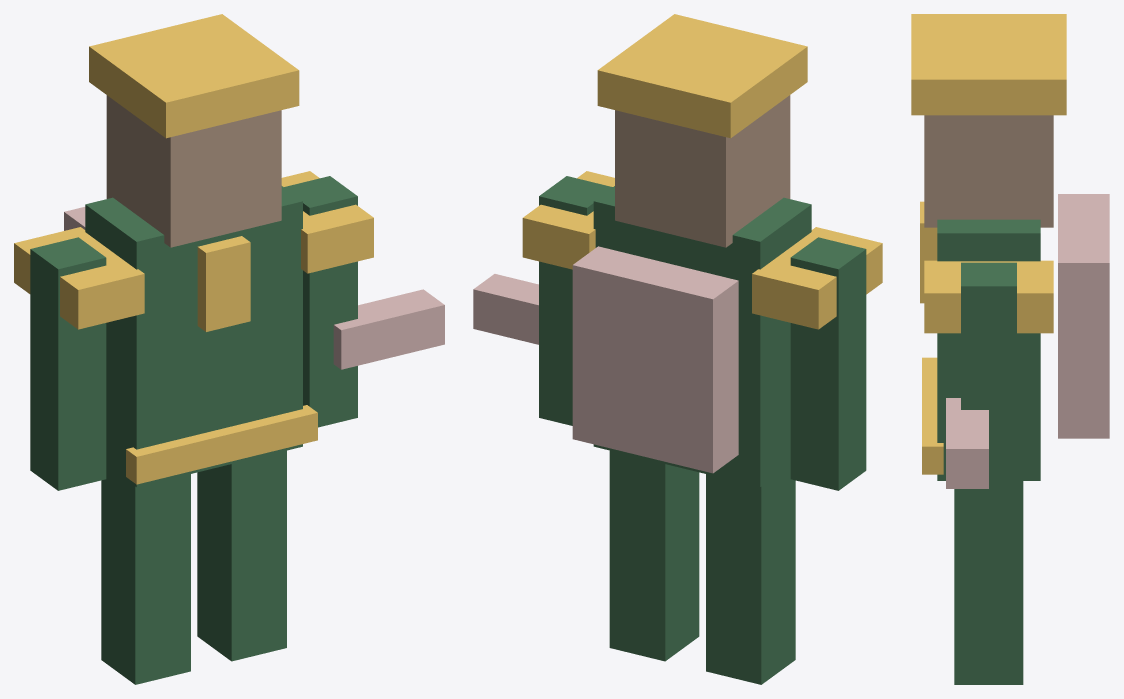
Rendered from 18_lyric_skyharrow_keeper_near_armory.glb.
The picture shows the model from 3 angles, left to right: view 1: azimuth 30°, elevation 25°; view 2: azimuth 150°, elevation 25°; view 3: azimuth 270°, elevation 25°; orthographic projection.
Parts seen in each view (by area): view 1: Lyric Skyharrow, Keeper near Armory; view 2: Lyric Skyharrow, Keeper near Armory; view 3: Lyric Skyharrow, Keeper near Armory.
Boxes of the visible parts, x1,y1,x2,y2 form: Lyric Skyharrow, Keeper near Armory: [14, 14, 444, 684]; Lyric Skyharrow, Keeper near Armory: [473, 14, 882, 684]; Lyric Skyharrow, Keeper near Armory: [911, 14, 1109, 684].
Bounding box in the file's own units: 1.06 × 1.59 × 0.4742.
